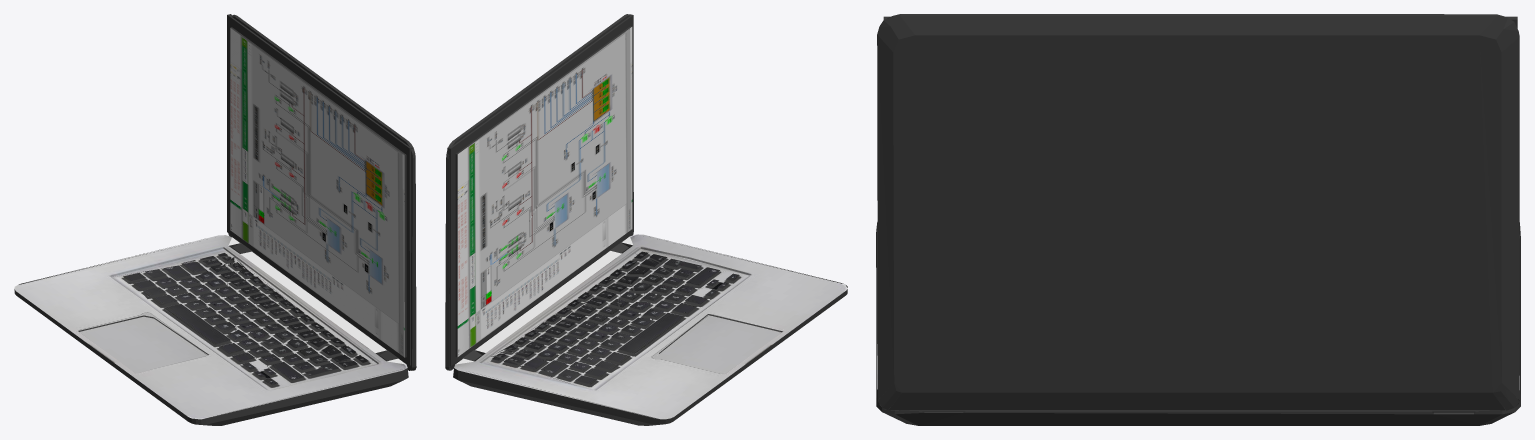
Rendered from try.glb.
The picture shows the model from 3 angles, left to right: view 1: azimuth 30°, elevation 25°; view 2: azimuth 150°, elevation 25°; view 3: azimuth 270°, elevation 25°; orthographic projection. The views are drawn at different scales.
Parts seen in each view (by area): view 1: Lowpoly_Notebook; view 2: Lowpoly_Notebook; view 3: Lowpoly_Notebook.
Part boxes in pixels (x1=…): Lowpoly_Notebook: x1=14, y1=14, x2=416, y2=425; Lowpoly_Notebook: x1=445, y1=14, x2=847, y2=425; Lowpoly_Notebook: x1=876, y1=14, x2=1520, y2=425.
Size of the model in its own units: 2.29 by 2.34 by 3.27.
3 materials, 2 textured.
